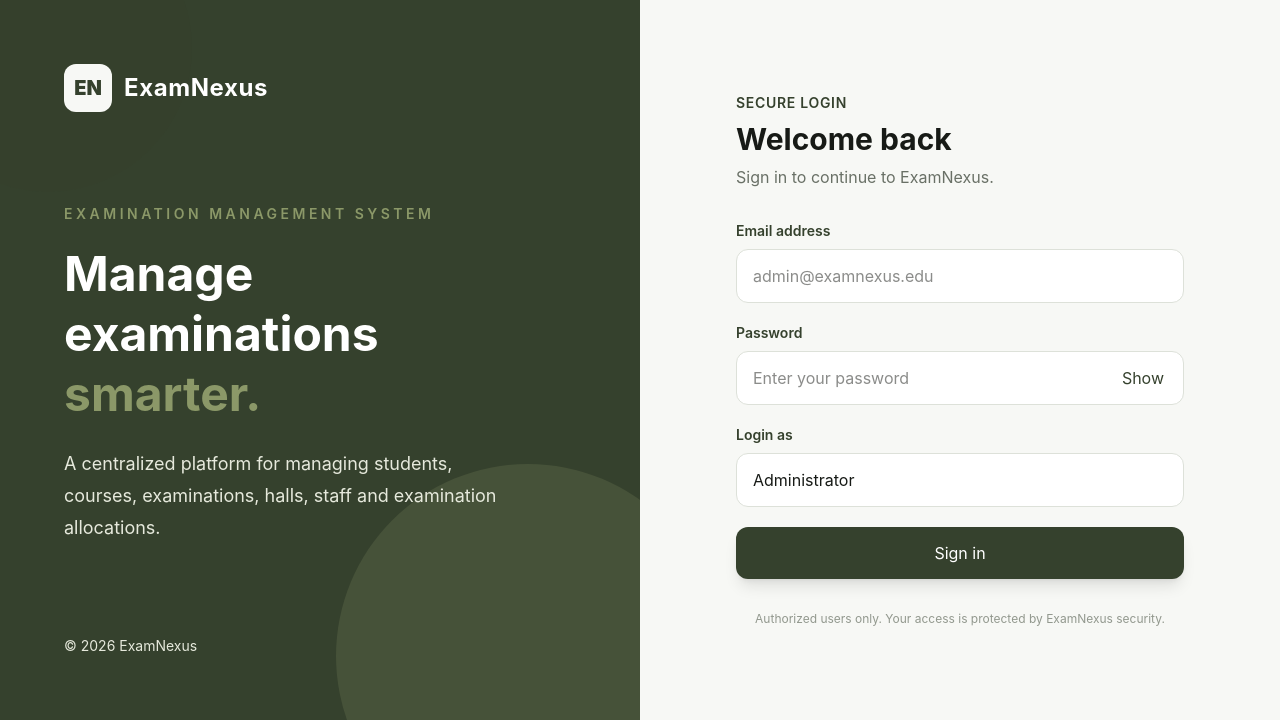
Test: Phase 1 — Authentication › AUTH-02: invalid credentials show an error and do NOT log in
The image size is (1280, 720).
Type "admin@example.com" into the field with placeholder "admin@examnexus.edu".
click(960, 276); type("admin@example.com")  # box [736,249,1184,303]
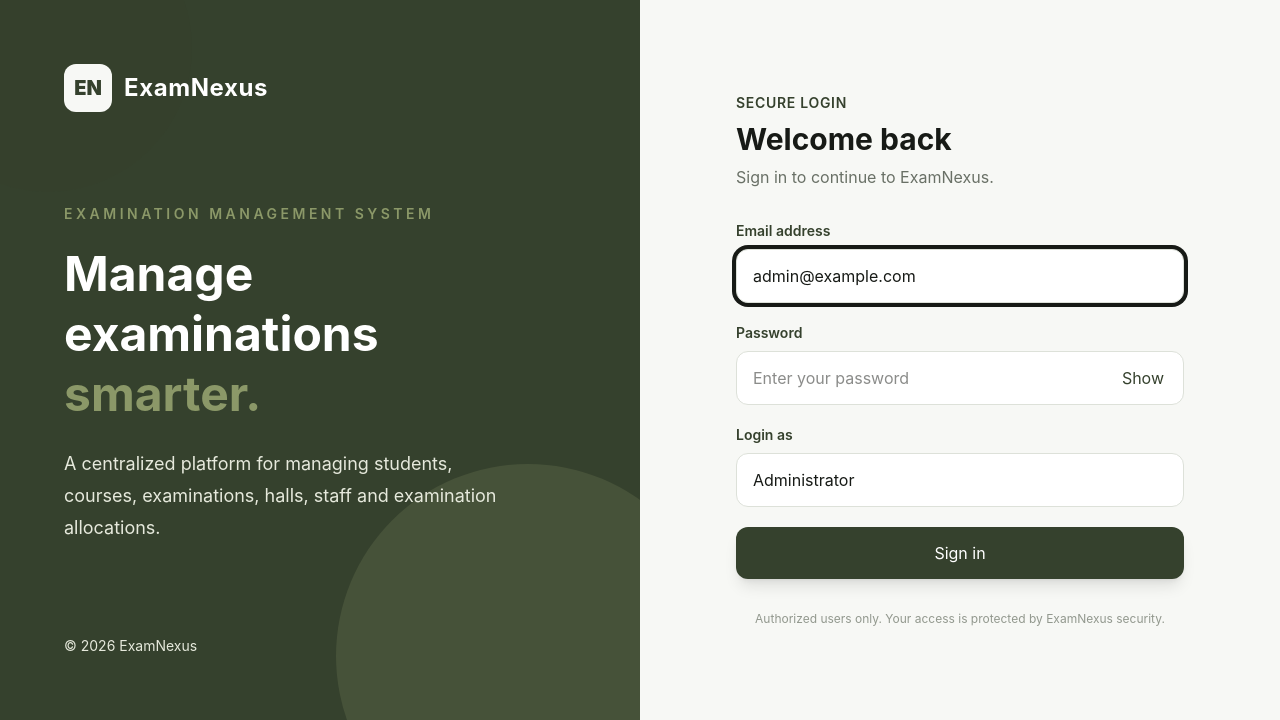
Type "wrong" into the password field with placeholder "Enter your password".
click(960, 378); type("wrong")  # box [736,351,1184,405]
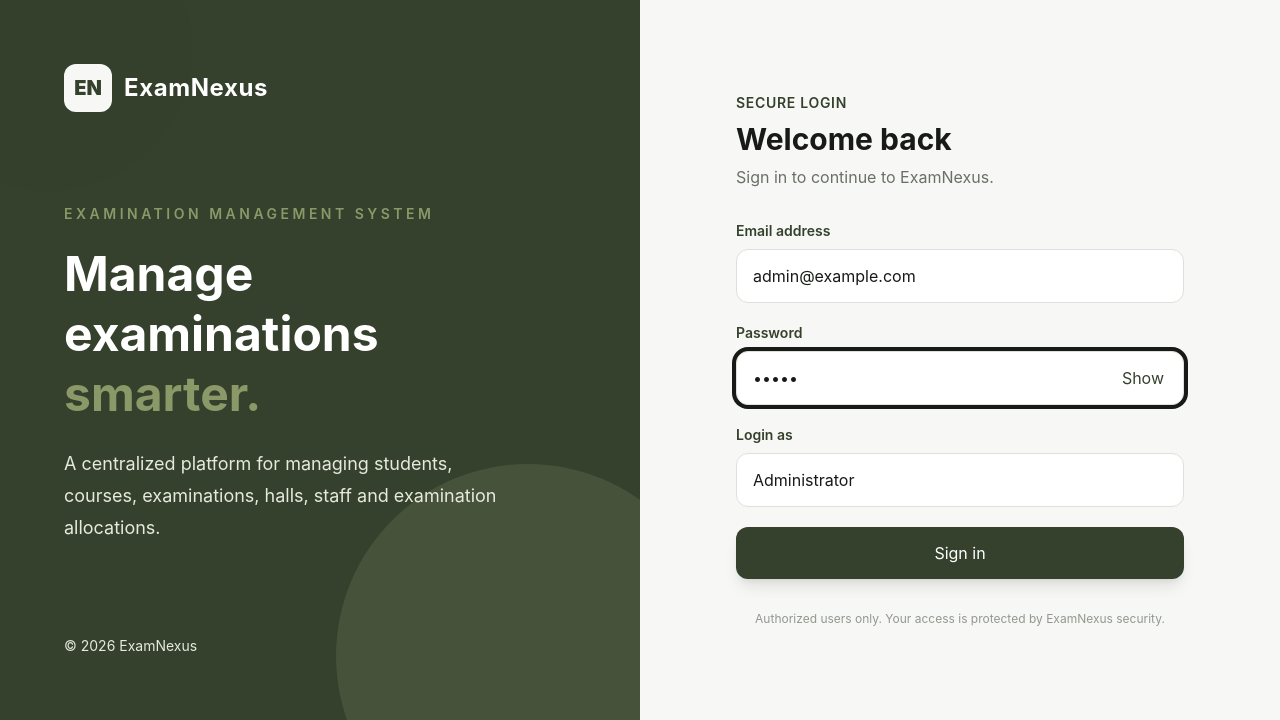
Click the button "Sign in".
click(960, 553)  # box [736,527,1184,579]
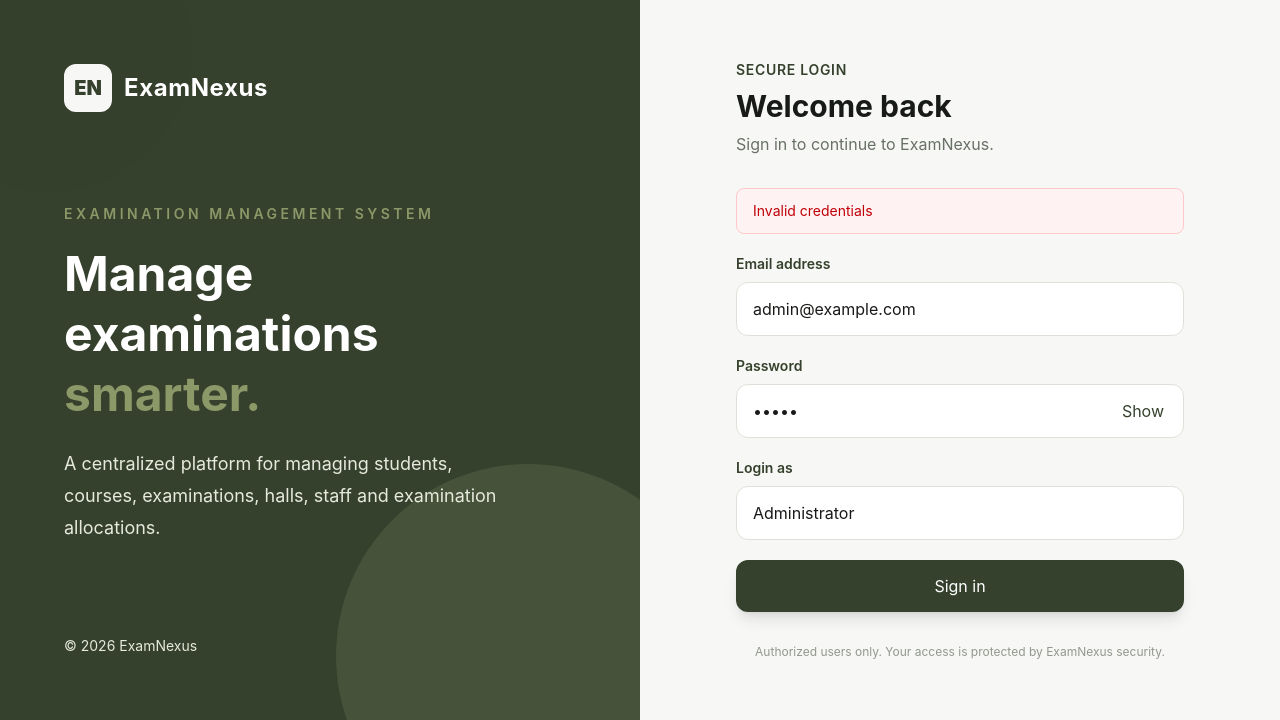
Expected: the text "Invalid credentials" is shown, [736,188,1184,234]
